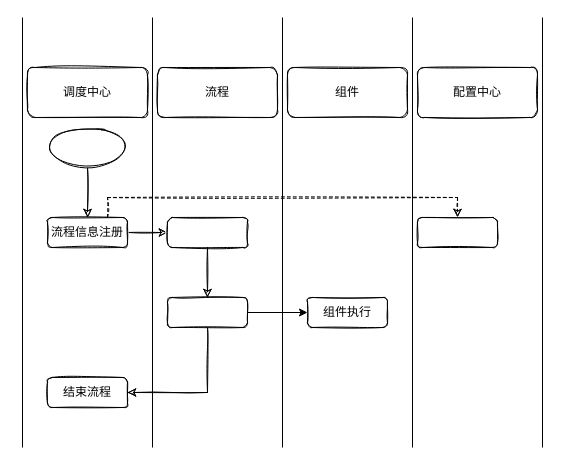
The diagram is 565 pixels wide and 465 high, and some of its shapes have lost their labels. Each missing label, with the centre of its shape:
"开始" belongs at point 87,147.
"流程初始化" belongs at point 207,232.
"流程实例执行" belongs at point 207,312.
"获取配置" belongs at point 457,232.
